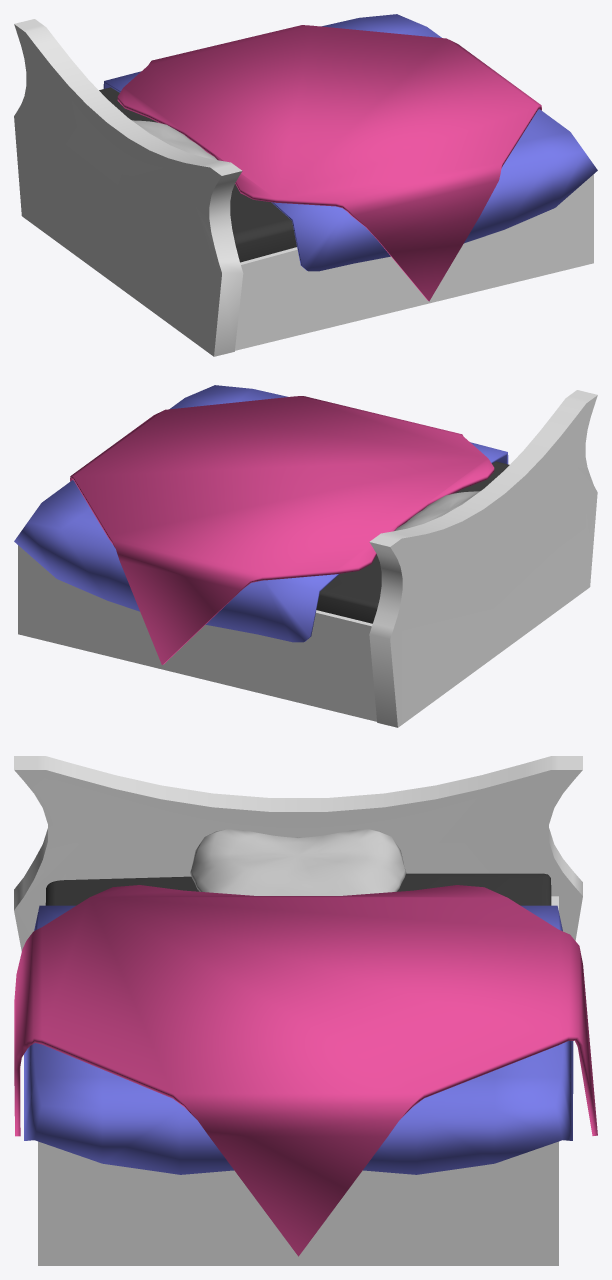
Rendered from bed.fbx.
3 views of the same model, one above another, from view 1: azimuth 30°, elevation 25°; view 2: azimuth 150°, elevation 25°; view 3: azimuth 270°, elevation 25° (orthographic). The views are drawn at different scales.
Visible parts, largest first — view 1: Plane.003; view 2: Plane.003; view 3: Plane.003.
Part boxes in pixels (x1=…): Plane.003: x1=14, y1=14, x2=597, y2=356; Plane.003: x1=14, y1=385, x2=597, y2=727; Plane.003: x1=14, y1=756, x2=597, y2=1265.
Bounding box in the file's own units: 217 × 98.96 × 205.
